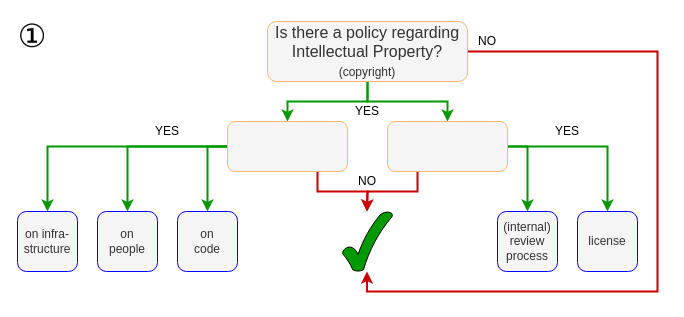
This 684x317 diagram has some shape labels left out. Each missing label, with the box of its shape:
Restriction on development?: (226, 120, 348, 172)
Restriction on publication?: (386, 120, 508, 172)
